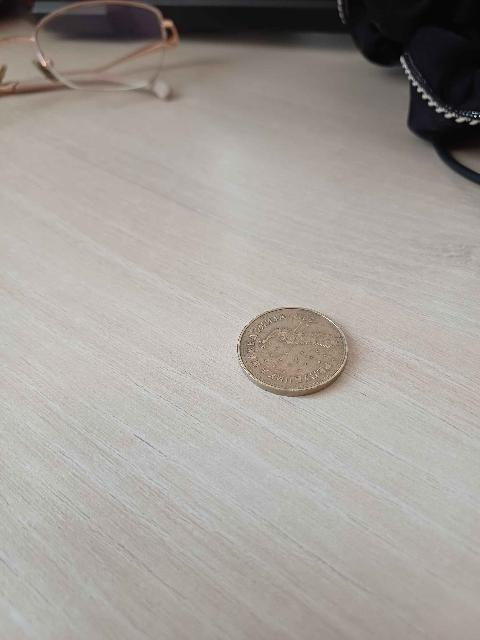coin: (238, 308, 347, 396)
